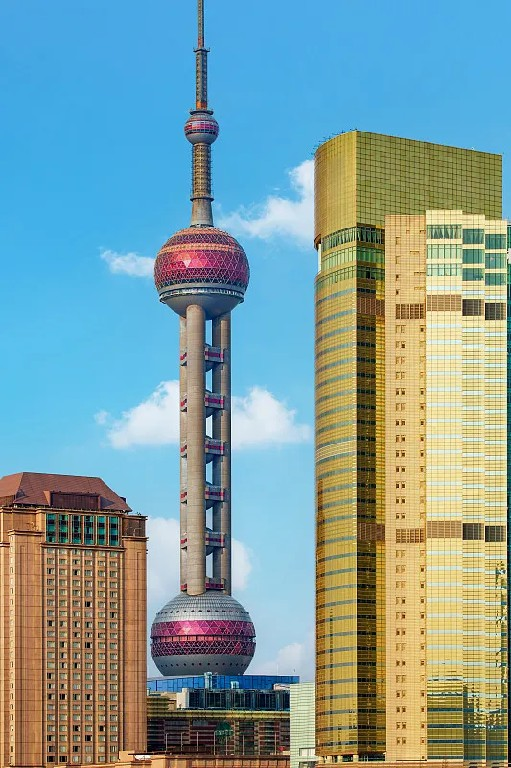Oriental: (150, 1, 257, 674)
